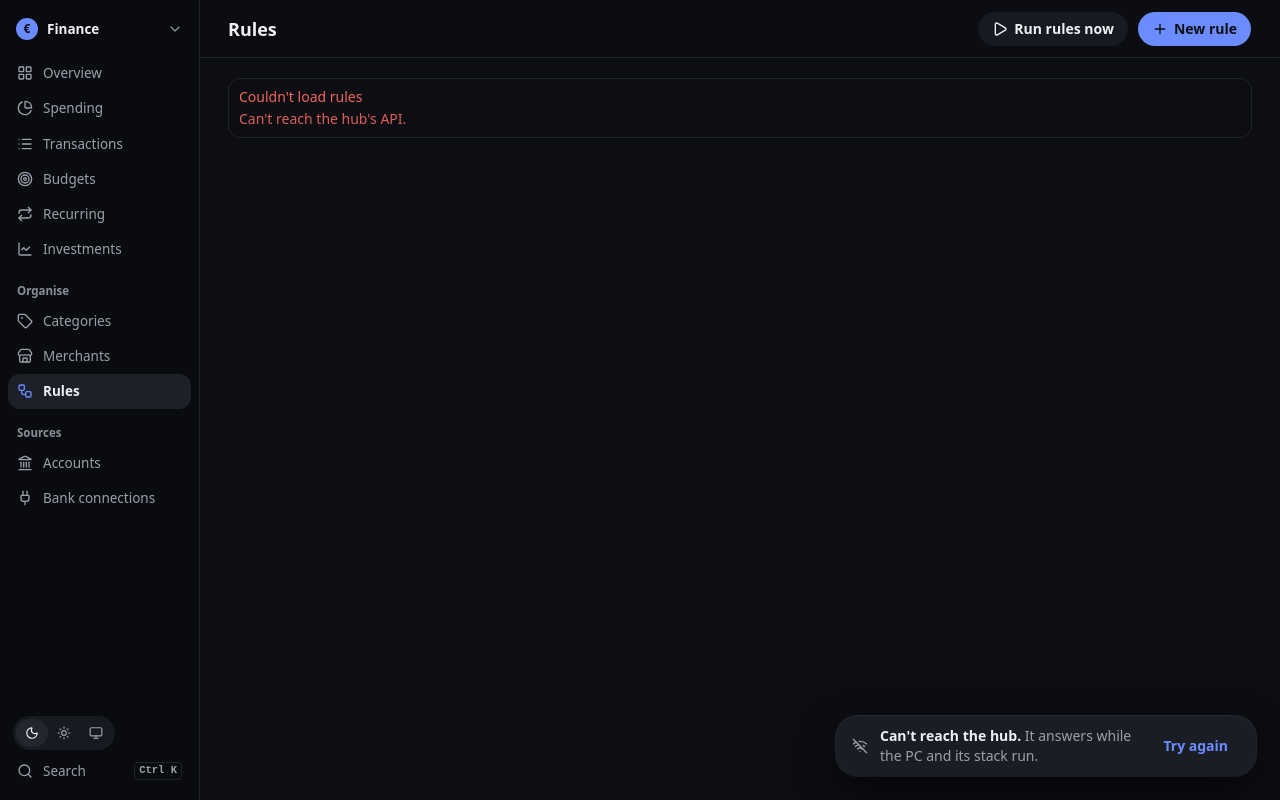
Test: says when the hub can't be reached, and tries again
This screenshot has width=1280, height=800.
Click the button "Try again": (1196, 746) [1151,724,1240,768]
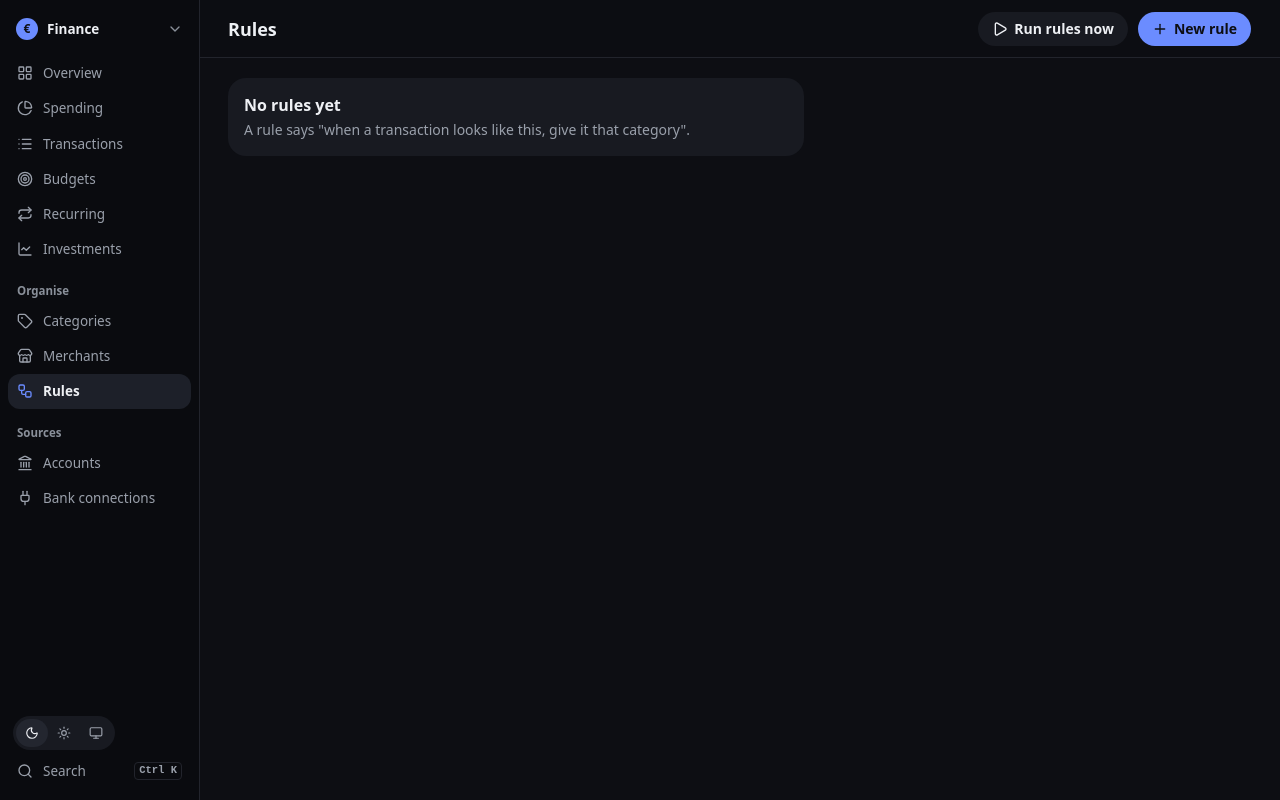
expect the text "Can't reach the hub." is gone: met
